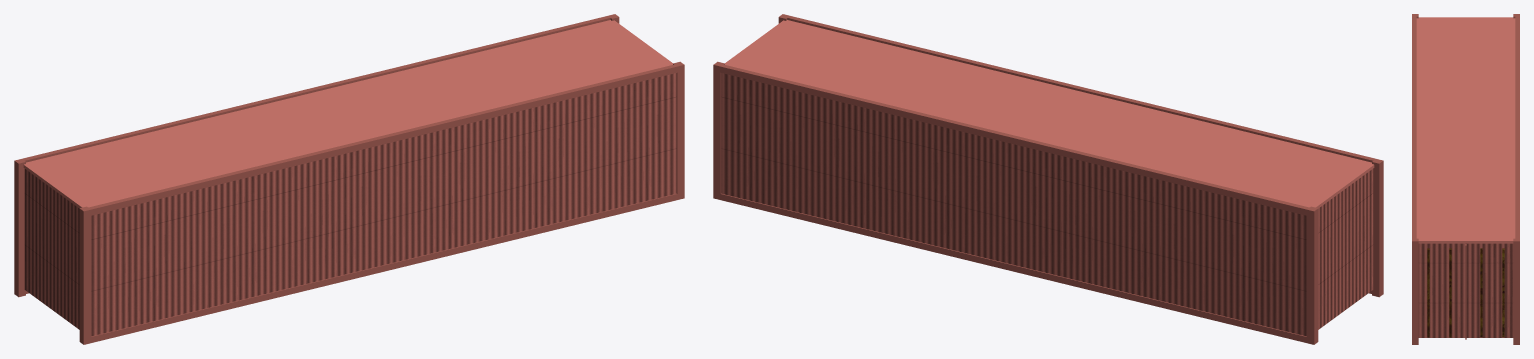
File: iso-40-red.loc-v1.lod0.glb
3 views of the same model, side by side, from view 1: azimuth 30°, elevation 25°; view 2: azimuth 150°, elevation 25°; view 3: azimuth 270°, elevation 25° (orthographic). The views are drawn at different scales.
Visible parts, largest first — view 1: iso-40-red; view 2: iso-40-red; view 3: iso-40-red.
Boxes of the visible parts, x1,y1,x2,y2 form: iso-40-red: (14,14,684,344); iso-40-red: (713,14,1383,344); iso-40-red: (1412,14,1519,344).
Size of the model in its own units: 12.2 by 2.59 by 2.44.
Materials: 3 (2 with a texture image).
